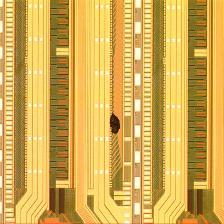PARTICLE: (109, 112, 123, 136)
